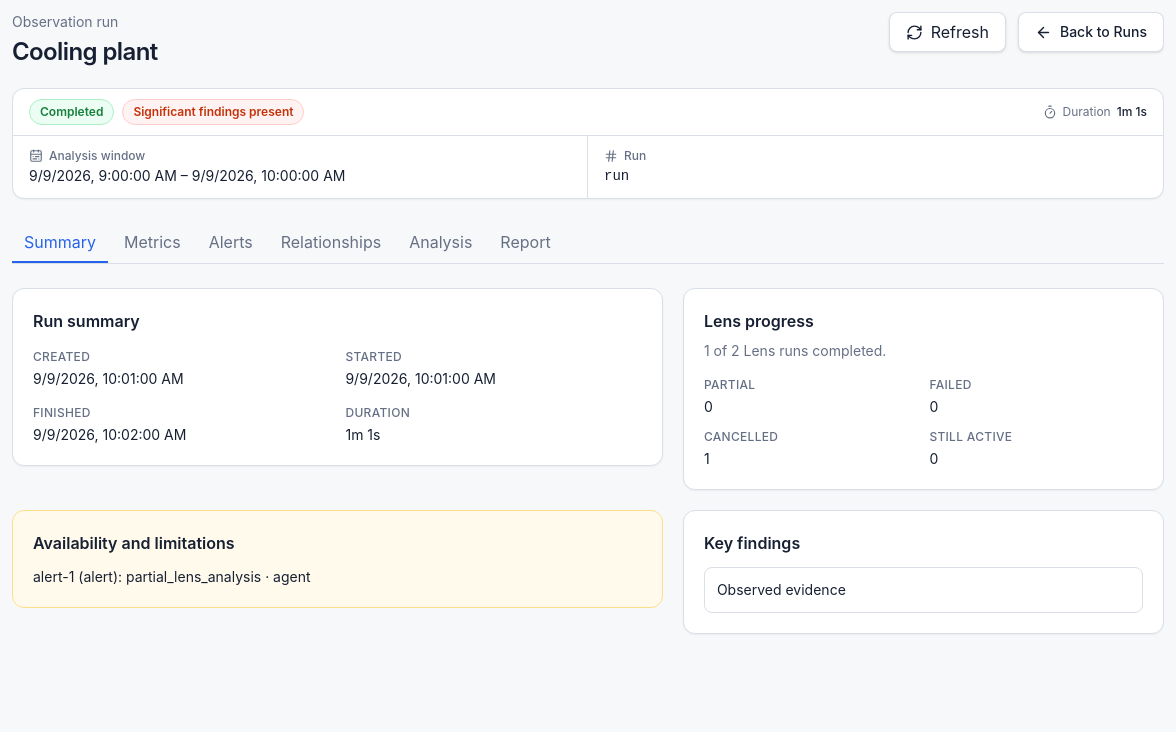
Test: RunDetailPage › describes a cancelled Metric Lens without a start or duration as unavailable rather than in progress
expect the heading "Run summary" is shown: met, box [33,311,140,331]
Click the tab "Metrics" at x=152, y=243, box [112,223,193,263]
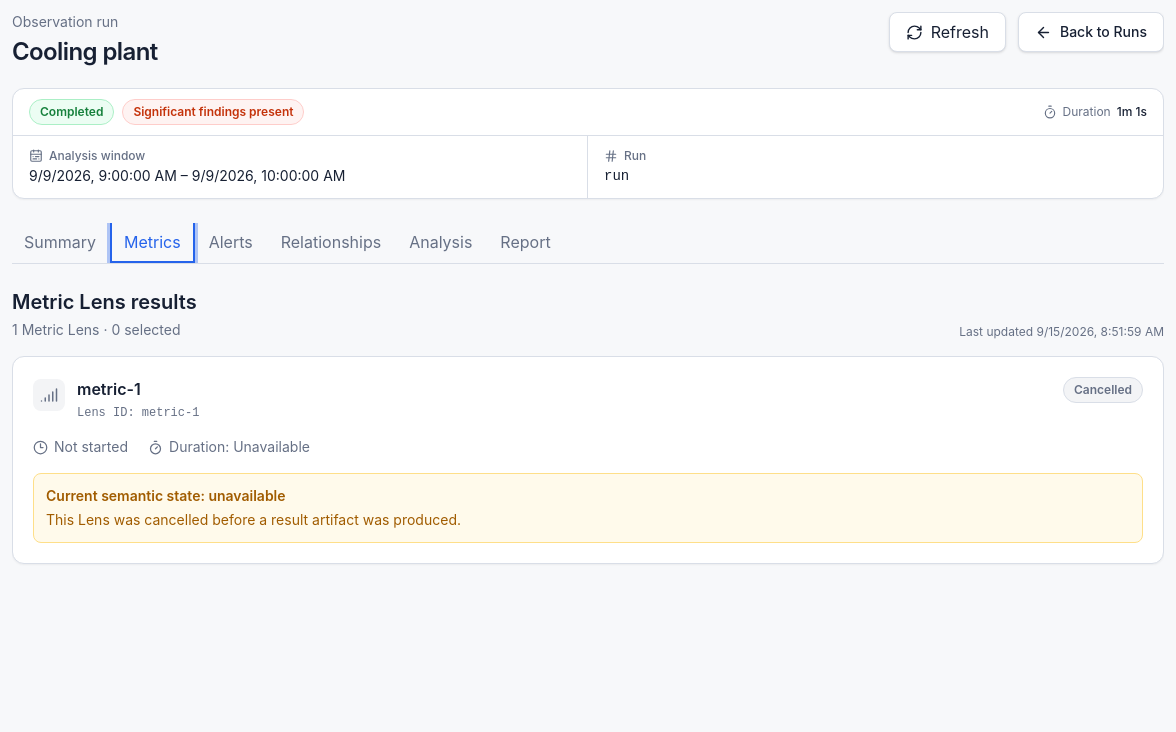
expect the text "Not started" is shown: met, box [33,437,128,457]
expect the text "Duration: Unavailable" is shown: met, box [148,437,310,457]
expect the text "This Lens was cancelled before a result artifact was produced." is shown: met, box [46,511,461,528]
